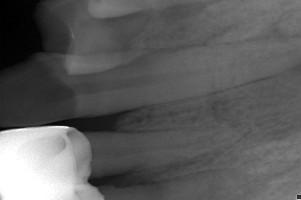Furcation Involvement: (241, 26, 301, 43), (291, 63, 301, 74)
